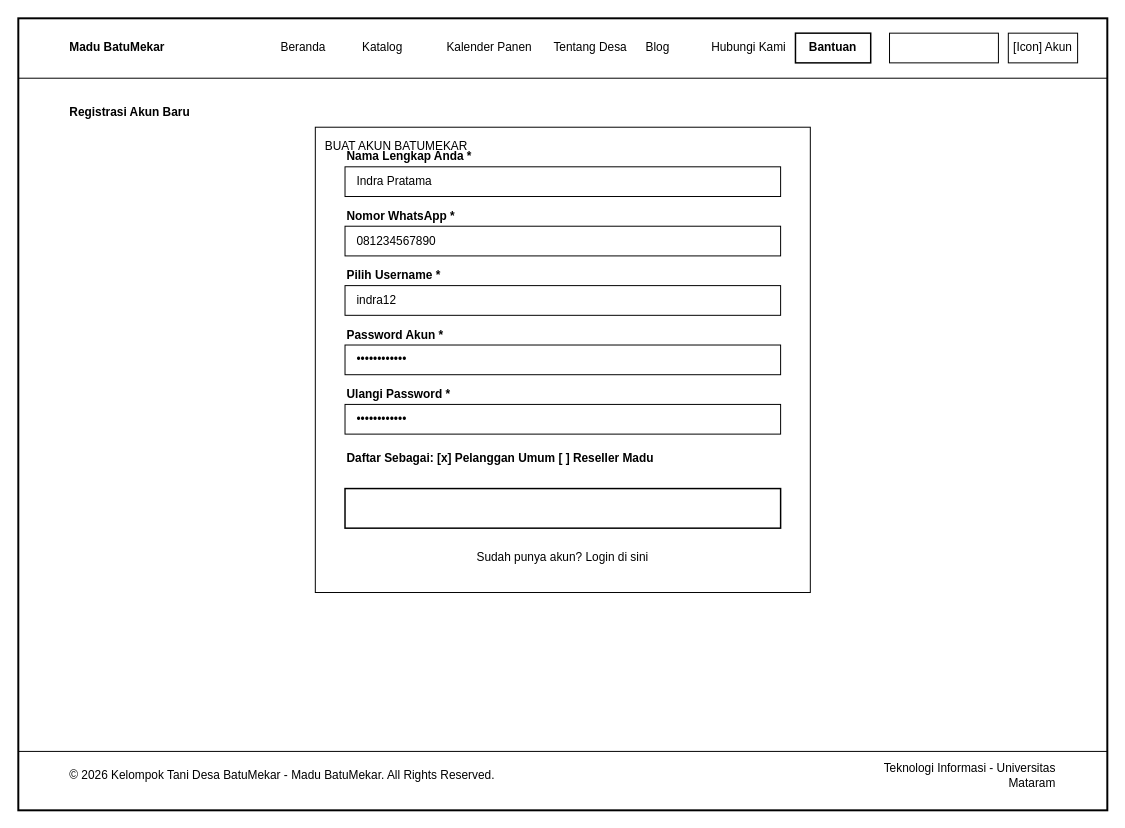
The diagram is 1125 pixels wide and 828 high, and some of its shapes have lost their labels. Each missing label, with the centre of its shape:
"[Icon] Keranjang (2)" goes at point (943, 47).
"Daftar Sekarang" goes at point (562, 507).
